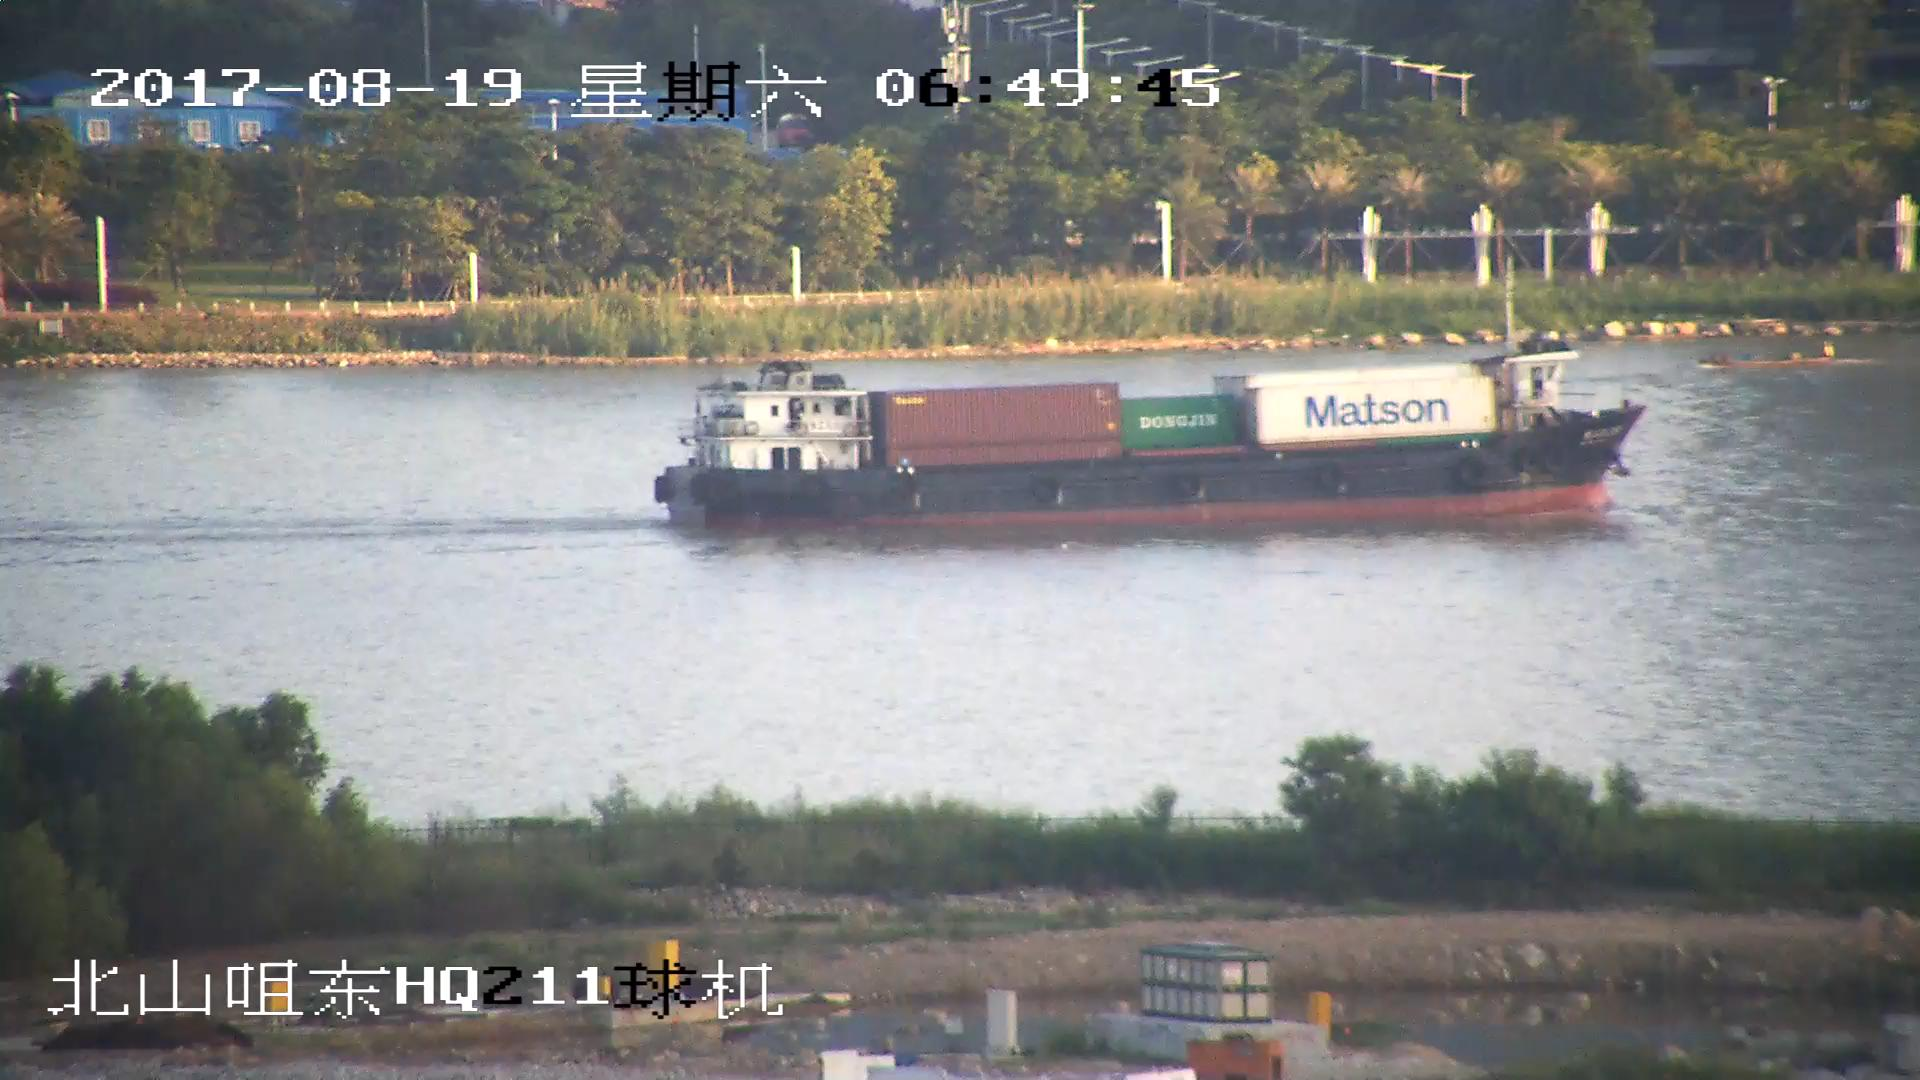container ship: (646, 303, 1648, 539)
fishing boat: (1697, 337, 1842, 373)
